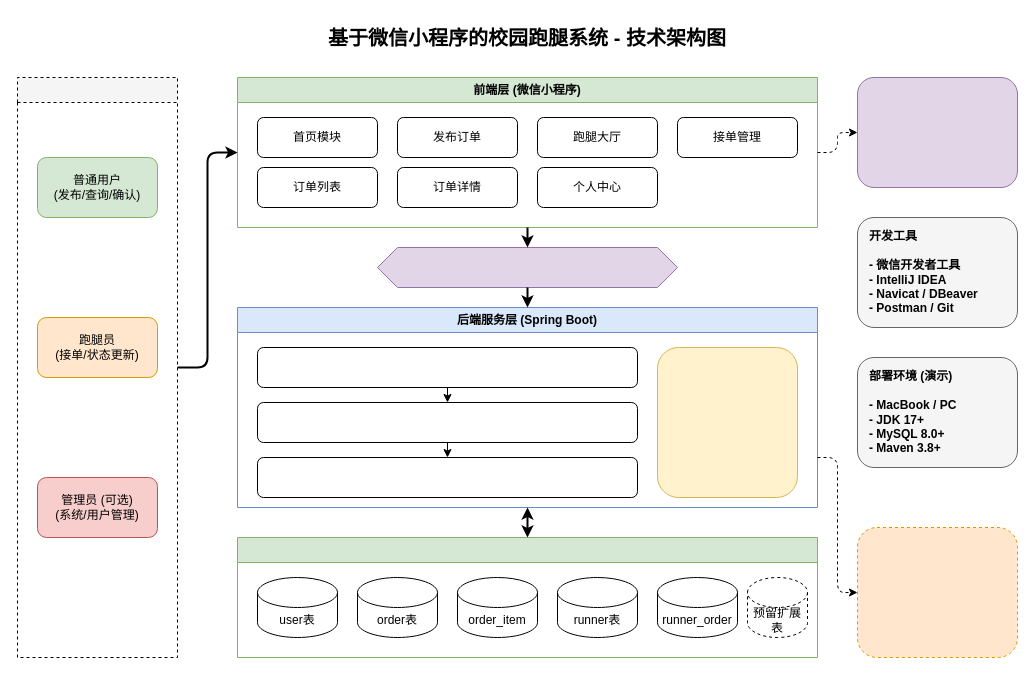
Some shapes in this 1035 by 675 pixel diagram are drawn without their labels. The box of each missing label's shape, as (x1, y1, x2, y2) in pixels:
HTTPS / RESTful API / JSON: (376, 246, 678, 288)
业务逻辑层 (Service) 用户服务 / 订单流转 / 接单处理 / 事务控制: (256, 402, 638, 442)
基础组件 - Spring Security - JWT 认证 - 全局异常处理 - 日志记录 (Log) - 声明式事务: (656, 346, 798, 498)
接口层 (Controller) 接收前端请求 / 参数校验 / 统一响应格式: (256, 346, 638, 388)
数据层 (MySQL): (236, 536, 818, 658)
数据访问层 (DAO / Mapper) 数据库交互 / 增删改查 / 数据持久化: (256, 456, 638, 498)
智能扩展模块 (预留) - 智能派单算法 (AI) - 动态定价策略 - 平台数据分析 - 订单异常预警: (856, 526, 1018, 658)
用户终端: (16, 76, 178, 658)
第三方服务 - 微信授权登录 - 微信订阅消息 - 地图定位服务 - 短信通知服务: (856, 76, 1018, 188)
